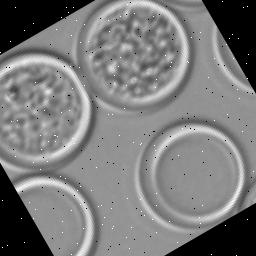picoshell: (74, 0, 189, 109), (137, 123, 244, 225), (0, 53, 91, 169), (13, 176, 95, 256), (211, 25, 254, 94), (237, 181, 256, 213)
